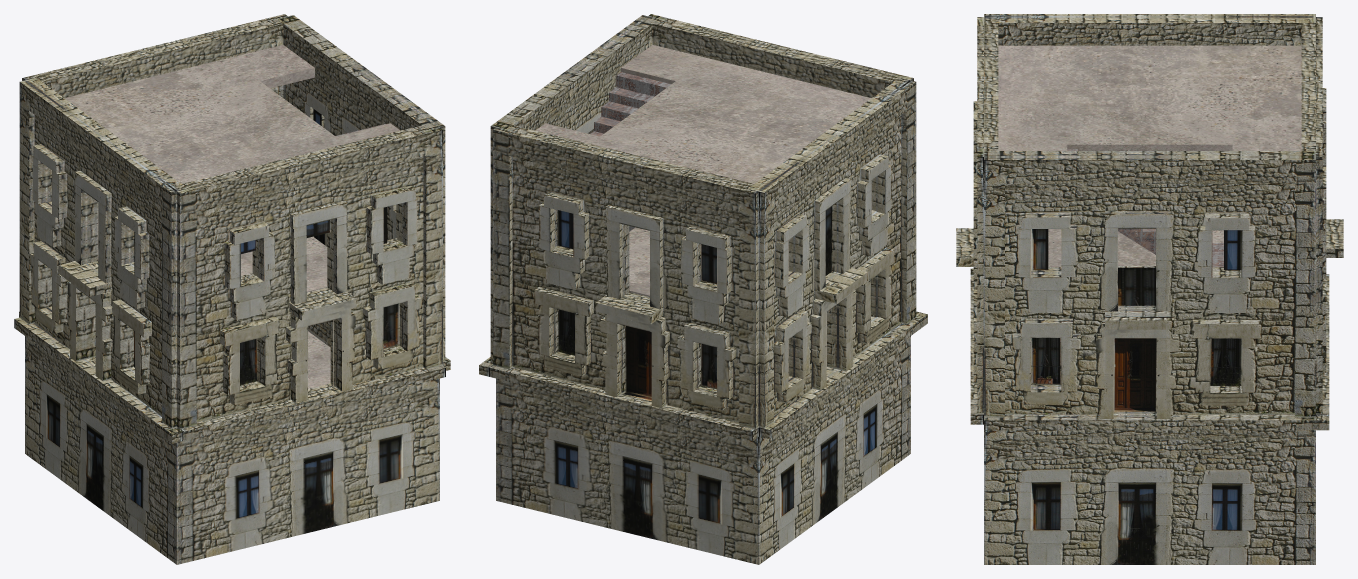
File: BagBuilding14High.fbx
3 views of the same model, side by side, from view 1: azimuth 30°, elevation 25°; view 2: azimuth 150°, elevation 25°; view 3: azimuth 270°, elevation 25° (orthographic). The views are drawn at different scales.
Parts seen in each view (by area): view 1: main300, mainFlip300, floors300; view 2: main300, mainFlip300, floors300, stairs300; view 3: mainFlip300, floors300, main300, stairs300.
Part boxes in pixels (x1,y1,x2,y2): main300: (19, 14, 445, 564); mainFlip300: (14, 15, 450, 564); floors300: (64, 45, 399, 388); main300: (479, 14, 927, 564); mainFlip300: (480, 15, 926, 564); floors300: (536, 45, 871, 366); stairs300: (590, 72, 670, 231); mainFlip300: (970, 14, 1329, 564); floors300: (998, 45, 1301, 267); main300: (956, 17, 1343, 430); stairs300: (1067, 149, 1223, 267).
Size of the model in its own units: 19.62 by 22.81 by 19.62.
